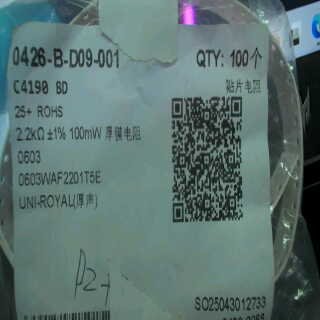2.2kR: (13, 125, 49, 142)
